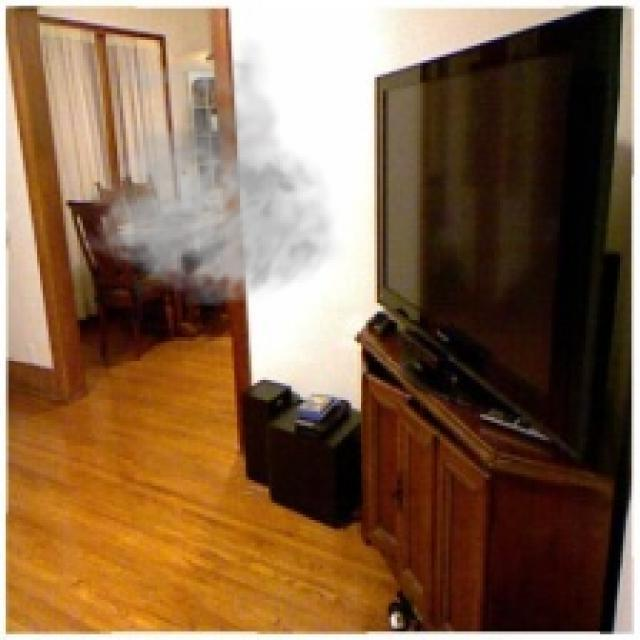Smoke: (74, 37, 346, 309)
